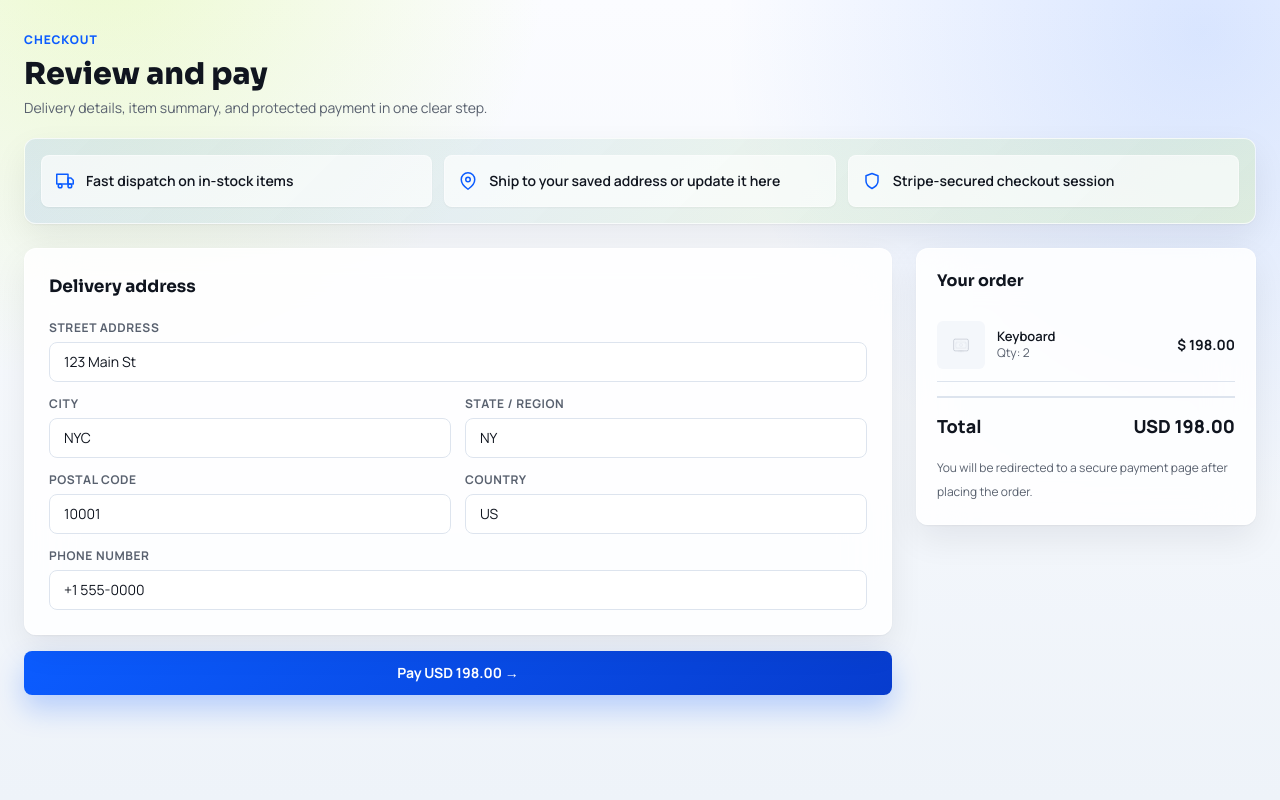
it: shows error when placeOrder fails
The width and height of the screenshot is (1280, 800).
Click the button "Pay USD 198.00 →".
click(458, 673)  # box [24, 651, 892, 695]
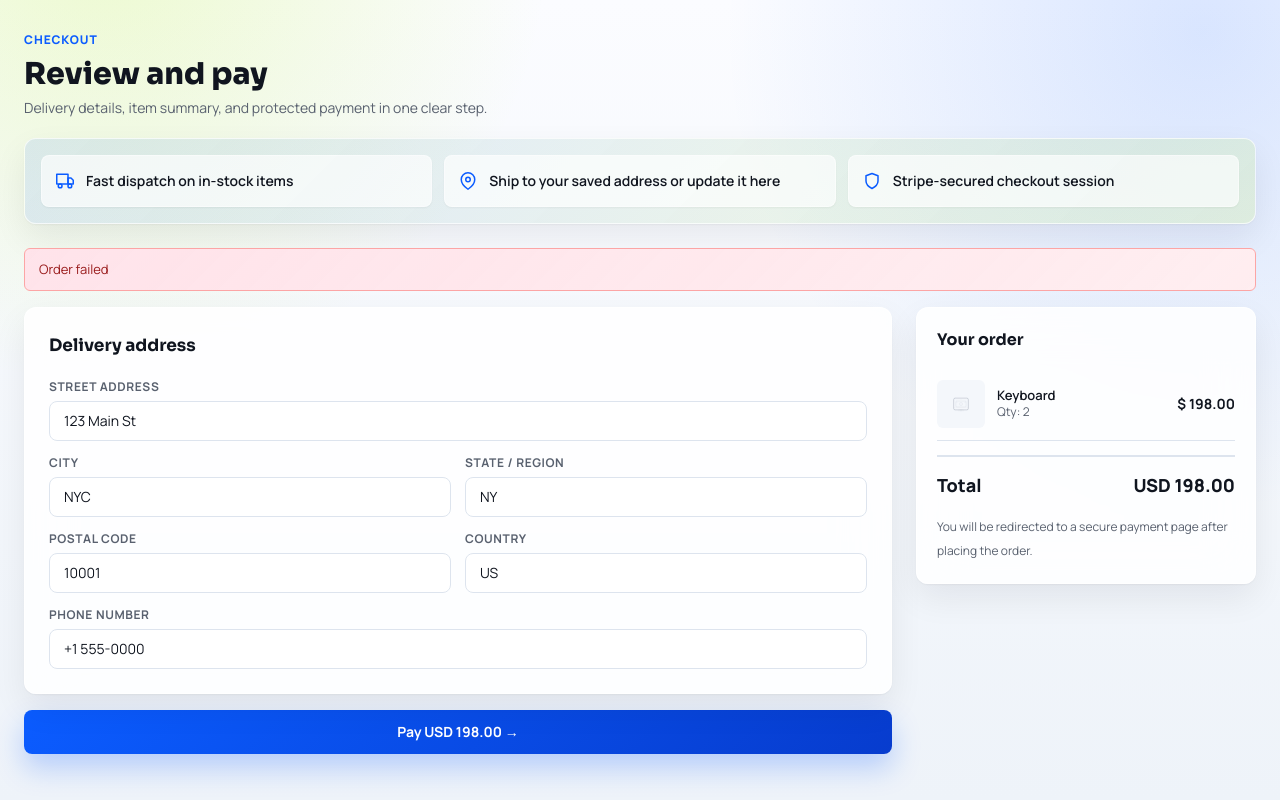
Now the text "Order failed" is shown, box [24, 248, 1256, 291]
